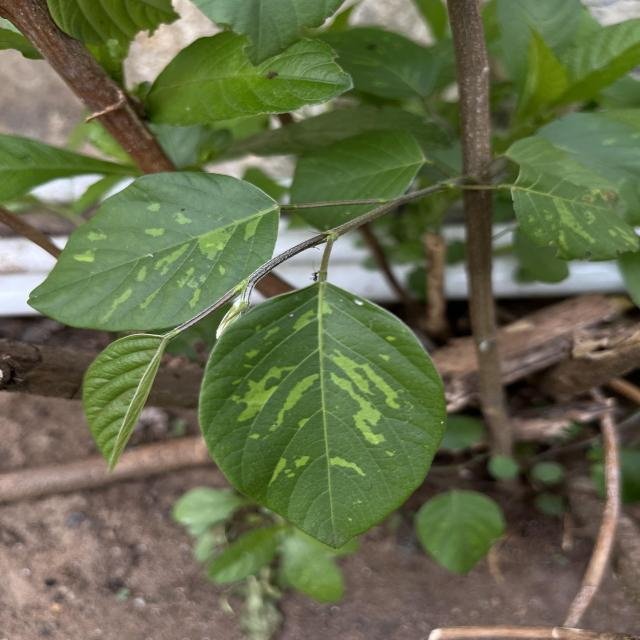Desmodium gangeticum: (195, 278, 450, 552), (22, 166, 287, 334)
